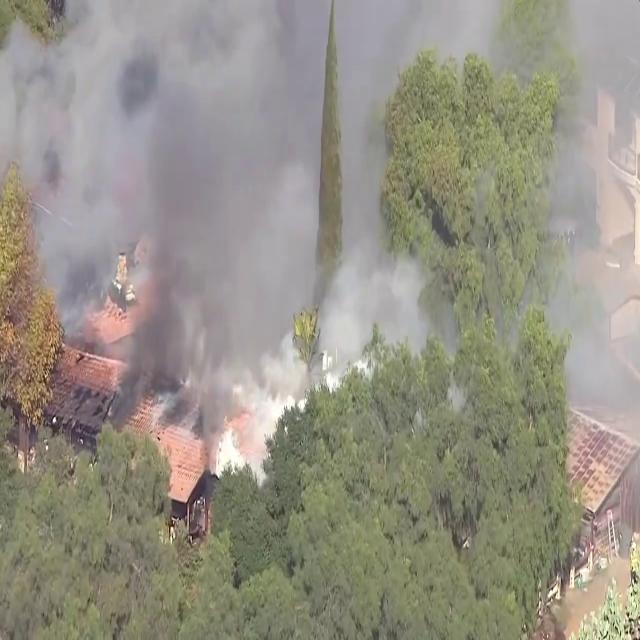Smoke: (0, 0, 314, 398), (536, 0, 640, 423), (311, 215, 434, 378)
